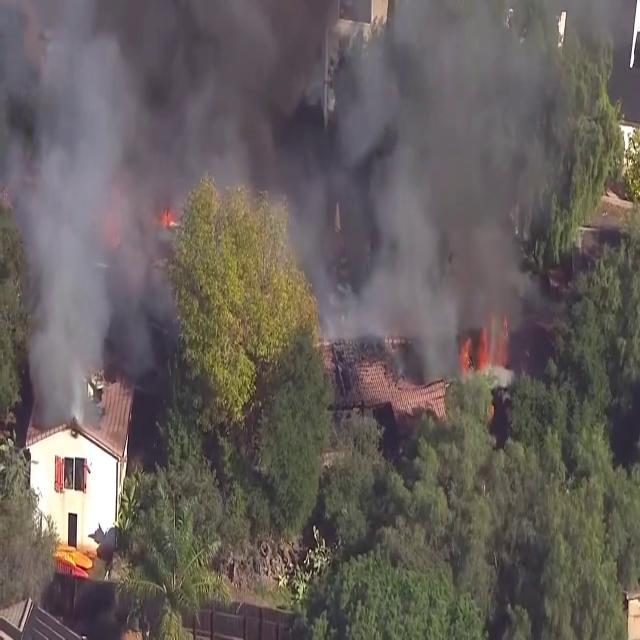Smoke: (294, 0, 609, 377), (0, 1, 250, 410)
